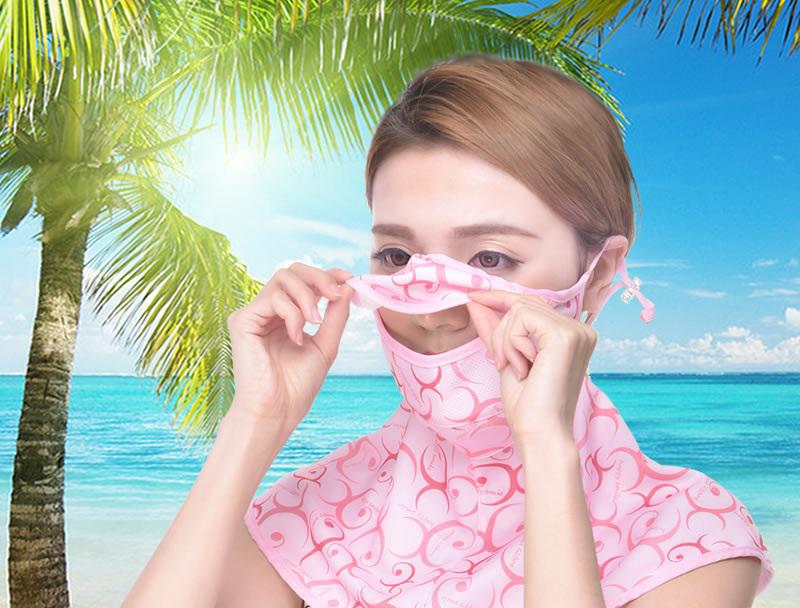WRONG: (364, 218, 569, 425)
